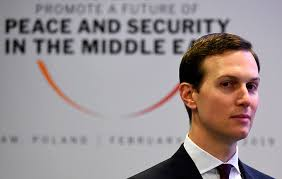middle_eastern_male: (195, 45, 261, 142)
